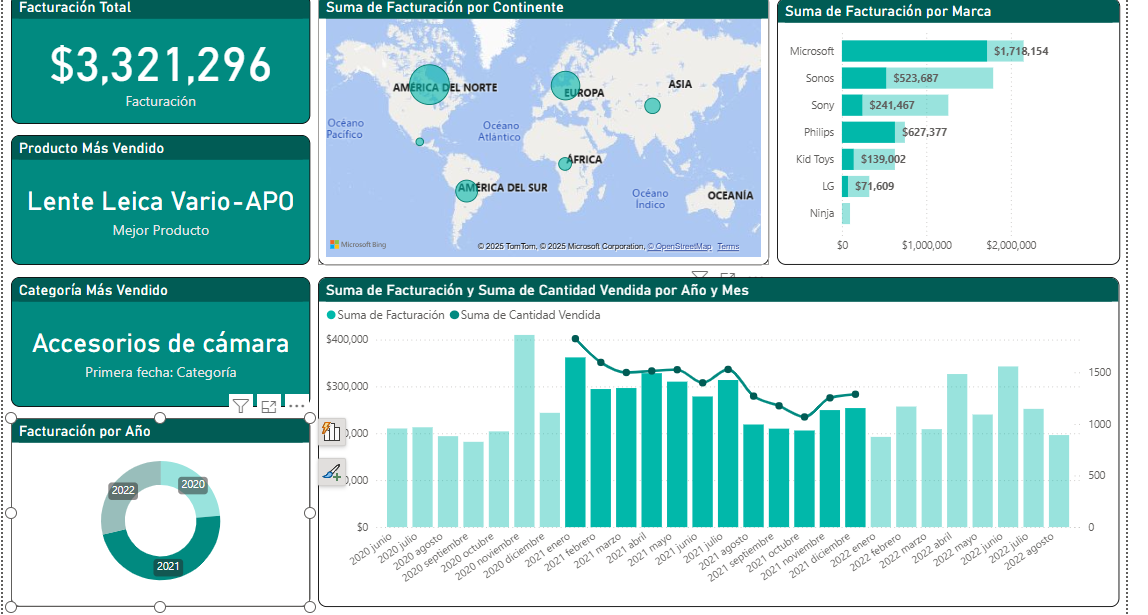

Layout of this report page (visuals, bound fields, positions):
{"tool":"powerbi","page":{"name":"Página 1","canvas":[1280,720],"ordinal":0},"visuals":[{"type":"card","title":"Facturación Total","fields":{"Values":["Sum(Ventas Tech.Facturación)"]},"box":[8.8,7.5,341.2,147.5],"z":0},{"type":"card","title":"Categoría Más Vendido","fields":{"Values":["Min(Ventas Tech.Categoría)"]},"box":[8.8,330,341.2,147.5],"z":1000},{"type":"map","fields":{"Category":["Ventas Tech.Continente"],"Size":["Sum(Ventas Tech.Facturación)"]},"box":[358.8,7.5,513.8,308.8],"z":2000},{"type":"lineStackedColumnComboChart","fields":{"Category":["Ventas Tech.Fecha De Venta.Variación.Jerarquía de fechas.Año","Ventas Tech.Fecha De Venta.Variación.Jerarquía de fechas.Mes"],"Y":["Sum(Ventas Tech.Facturación)"],"Y2":["Sum(Ventas Tech.Cantidad Vendida)"]},"box":[358.8,330,912.5,376.2],"z":3000},{"type":"clusteredBarChart","fields":{"Category":["Ventas Tech.Marca"],"Y":["Sum(Ventas Tech.Facturación)"]},"box":[881.2,12.5,391.2,303.8],"z":4000},{"type":"card","title":"Producto Más Vendido","fields":{"Values":["Min(Ventas Tech.Producto)"]},"box":[8.8,168.8,341.2,147.5],"z":5000},{"type":"donutChart","title":"Facturación por Año","fields":{"Y":["Sum(Ventas Tech.Facturación)"],"Category":["Ventas Tech.Fecha De Venta.Variación.Jerarquía de fechas.Año"]},"box":[8.8,491.2,341.2,215],"z":6000}]}

Visuals, with their boxes on the page's 1280x720 design canvas (x1, y1, x2, y2). These are canvas units, not pixel positions in the 1148x615 screenshot, which may show the page scaled, cropped or inside an application window:
"Facturación Total" card: 9 8 350 155
"Categoría Más Vendido" card: 9 330 350 478
map - Ventas Tech.Continente x Sum(Ventas Tech.Facturación): 359 8 873 316
lineStackedColumnComboChart - Ventas Tech.Fecha De Venta.Variación.Jerarquía de fechas.Año x Ventas Tech.Fecha De Venta.Variación.Jerarquía de fechas.Mes: 359 330 1271 706
clusteredBarChart - Ventas Tech.Marca x Sum(Ventas Tech.Facturación): 881 12 1272 316
"Producto Más Vendido" card: 9 169 350 316
"Facturación por Año" donutChart: 9 491 350 706
